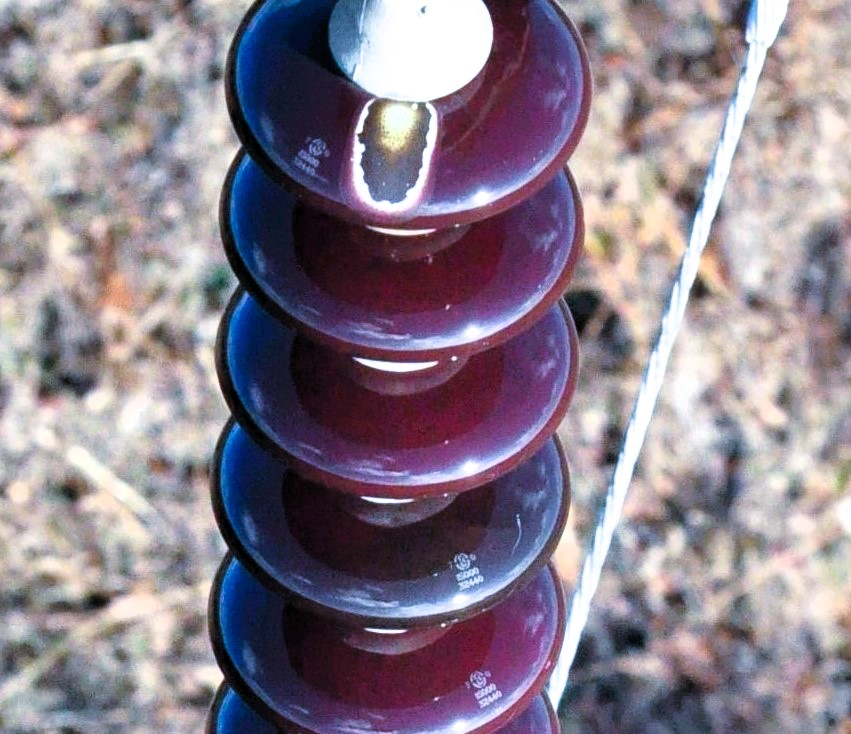Insulator flashover: (214, 1, 598, 235)
